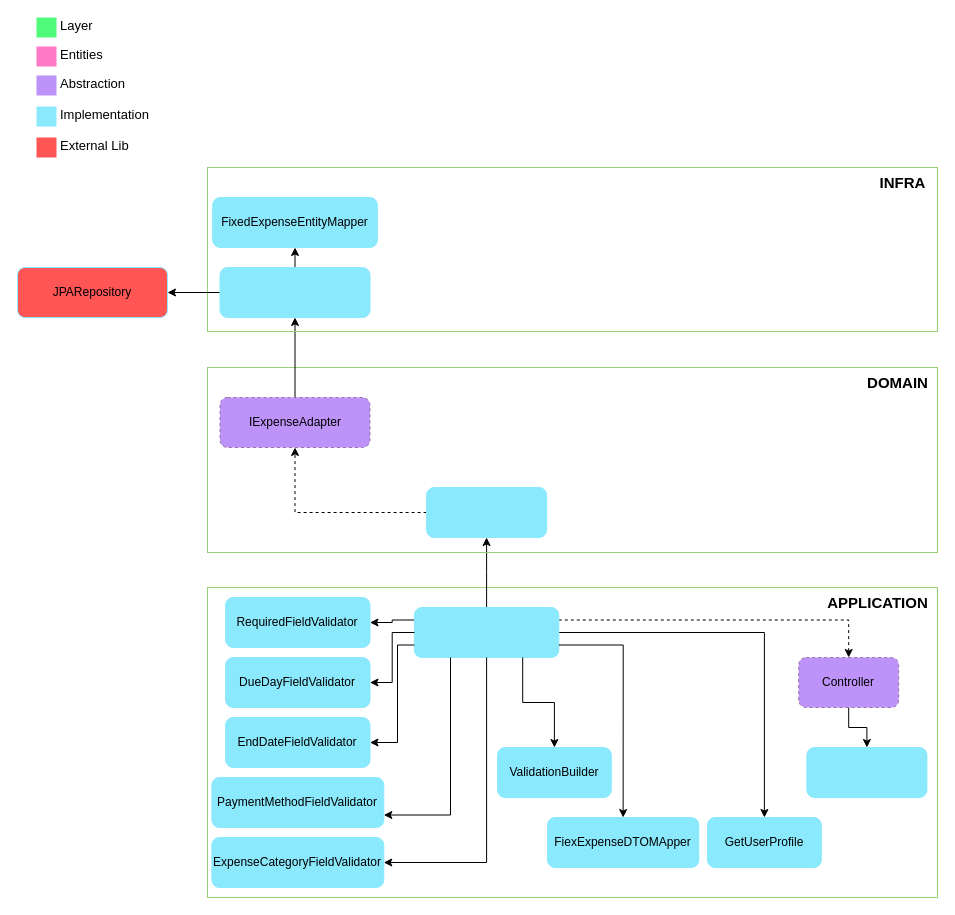
This 955x915 diagram has some shape labels left out. The shapes that lost their labels are listed below. From the top down, each one's centre as x and y in pixels, then its label:
(294,292): ExpenseAdapter
(486,512): AddExpense
(486,632): AddExpenseController
(866,772): ValidationComposite
